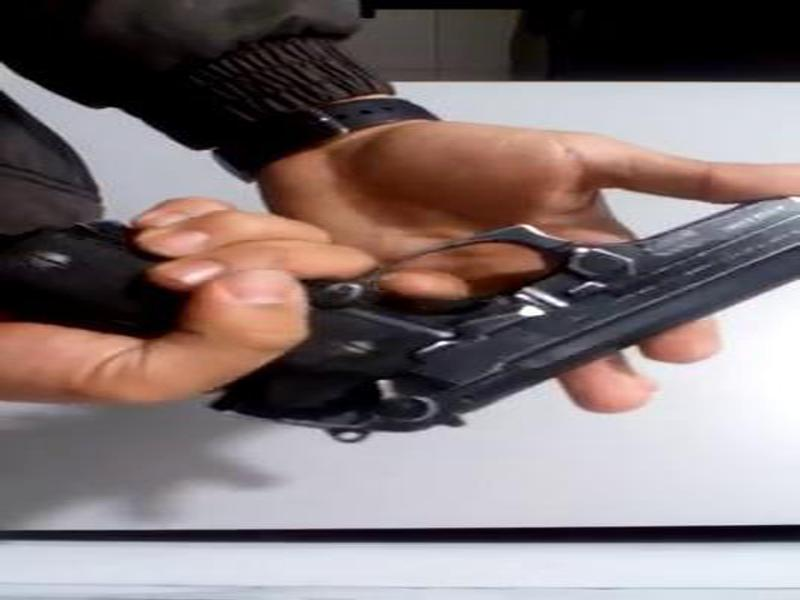Pistola: (20, 168, 800, 454)
